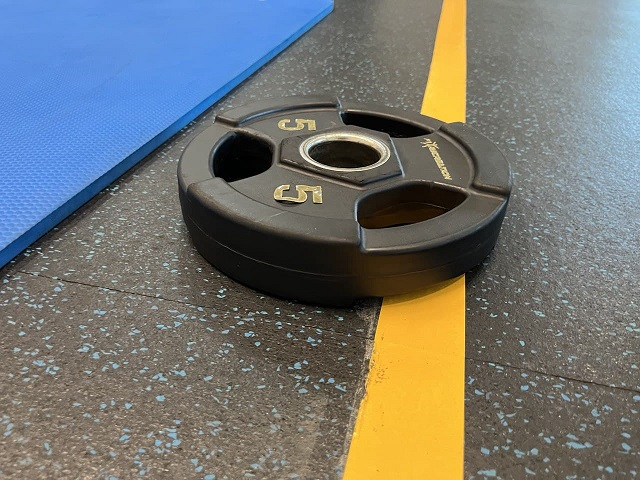weights: (174, 91, 517, 307)
